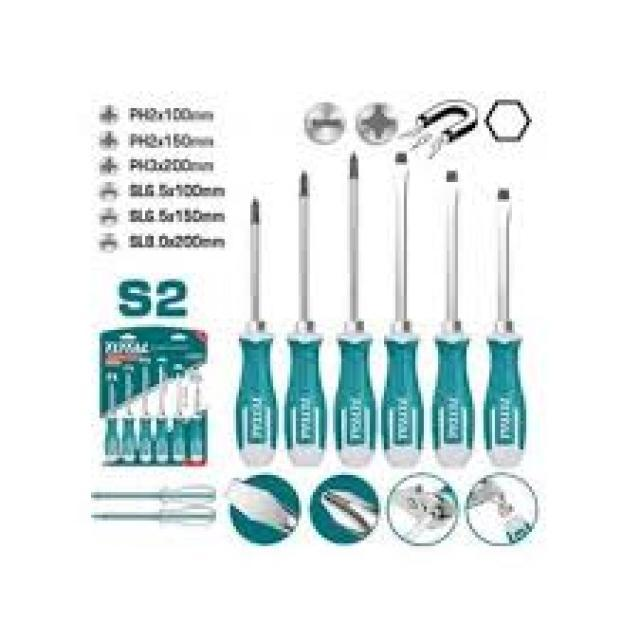screwdriver: (328, 144, 379, 468), (478, 178, 532, 471), (378, 148, 427, 470), (428, 168, 477, 470), (229, 180, 280, 466), (278, 169, 324, 468)
